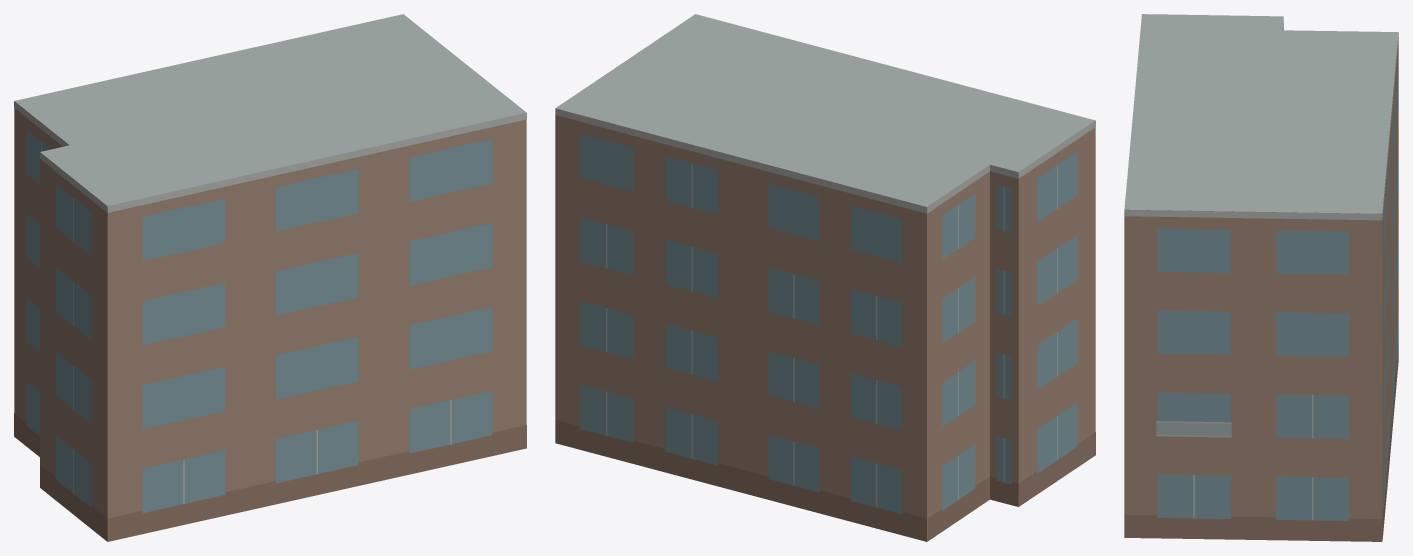
File: residential-5f203386-e8df-49e7-803b-d83b3bb12c31.glb
The picture shows the model from 3 angles, left to right: view 1: azimuth 30°, elevation 25°; view 2: azimuth 150°, elevation 25°; view 3: azimuth 270°, elevation 25°; orthographic projection. The views are drawn at different scales.
Visible parts, largest first — view 1: residential-5f203386-e8df-49e7-803b-d83b3bb12c31.tmp; view 2: residential-5f203386-e8df-49e7-803b-d83b3bb12c31.tmp; view 3: residential-5f203386-e8df-49e7-803b-d83b3bb12c31.tmp.
Part boxes in pixels (x1,y1,x2,y2): residential-5f203386-e8df-49e7-803b-d83b3bb12c31.tmp: (14, 14, 526, 541); residential-5f203386-e8df-49e7-803b-d83b3bb12c31.tmp: (555, 14, 1095, 541); residential-5f203386-e8df-49e7-803b-d83b3bb12c31.tmp: (1124, 14, 1398, 541).
Size of the model in its own units: 15.94 by 12.2 by 9.25.
